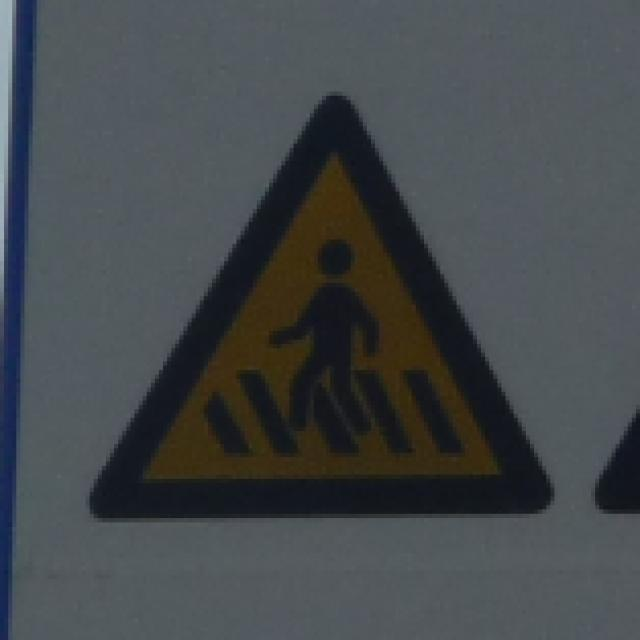Crossing: (83, 83, 561, 528)
